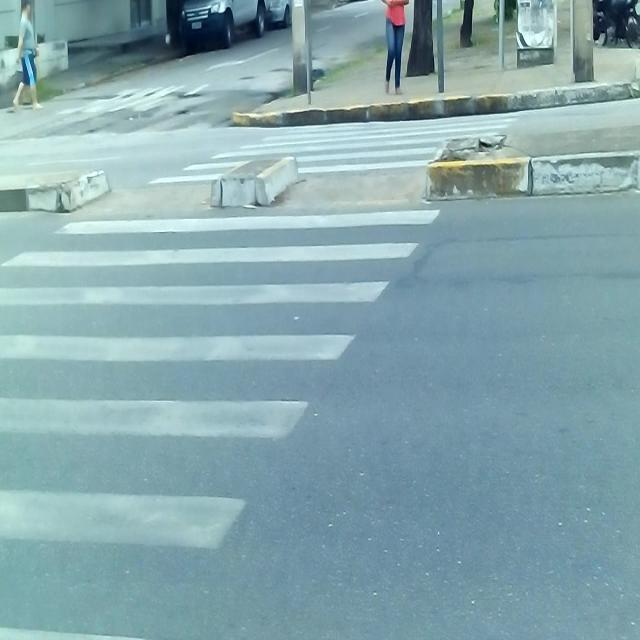crosswalk: (0, 111, 526, 640)
